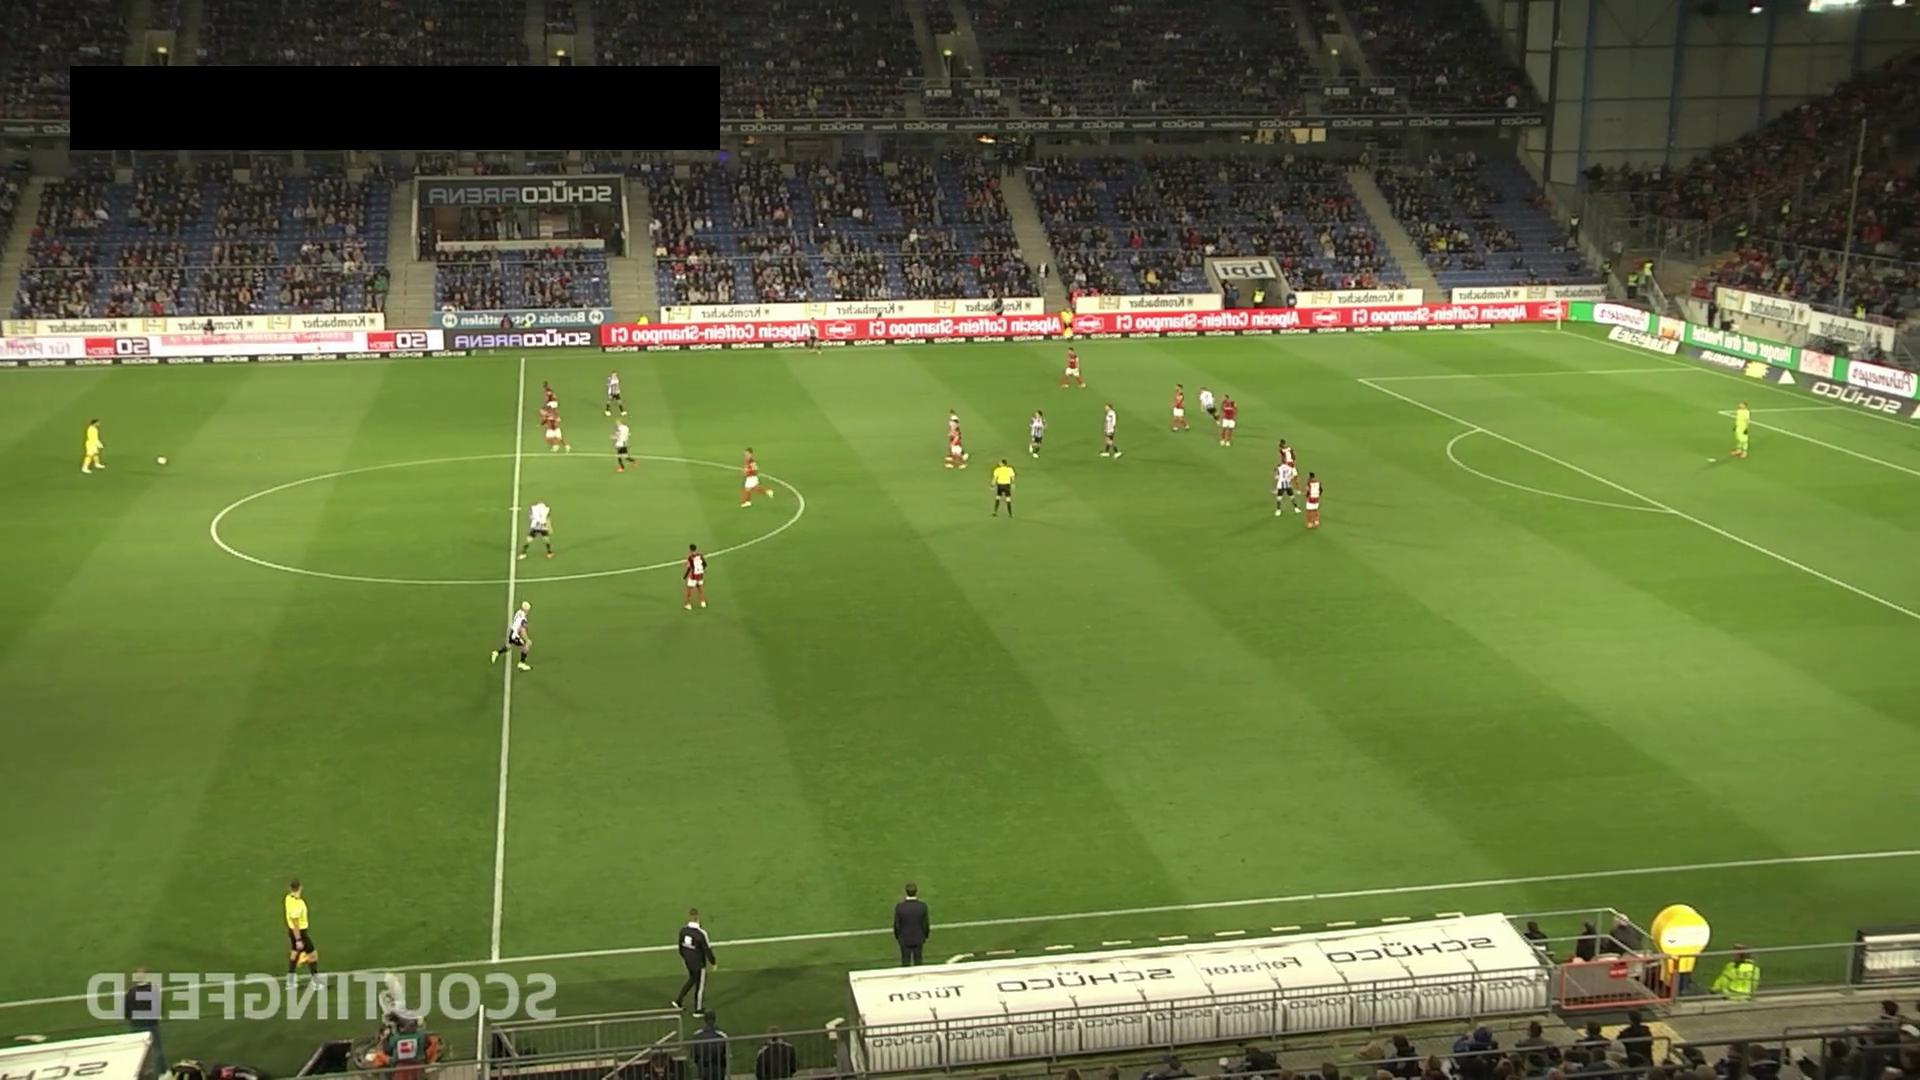ball: (156, 455, 168, 466)
player: (491, 600, 533, 671), (518, 497, 554, 559), (739, 446, 774, 507), (681, 542, 708, 611), (1274, 459, 1302, 517), (1276, 437, 1302, 496), (610, 417, 637, 473), (1058, 345, 1089, 392), (1098, 402, 1123, 458), (540, 409, 571, 453), (81, 417, 105, 473), (948, 408, 970, 461), (1730, 400, 1750, 458), (1304, 471, 1323, 529), (1218, 393, 1238, 448), (1198, 386, 1221, 429), (1170, 383, 1190, 432), (945, 429, 969, 469), (1028, 409, 1047, 458), (604, 369, 623, 416), (540, 380, 558, 408)
referee: (283, 878, 322, 988), (990, 458, 1016, 518), (1059, 302, 1077, 344)
